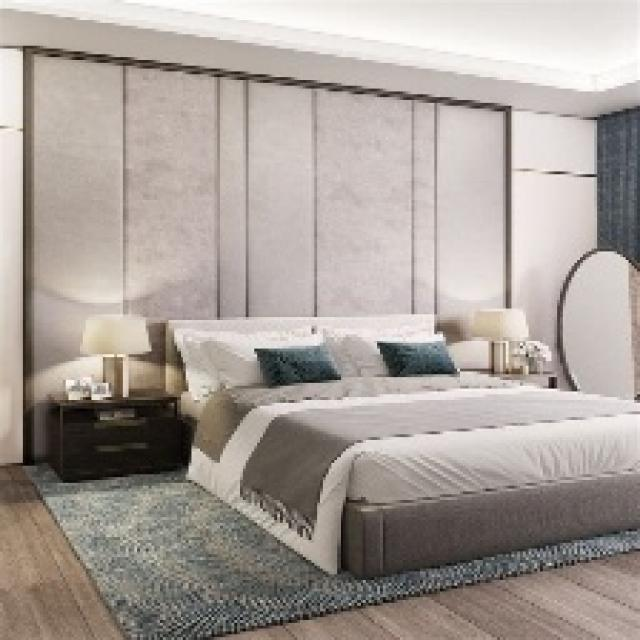Bed: (163, 312, 637, 577)
